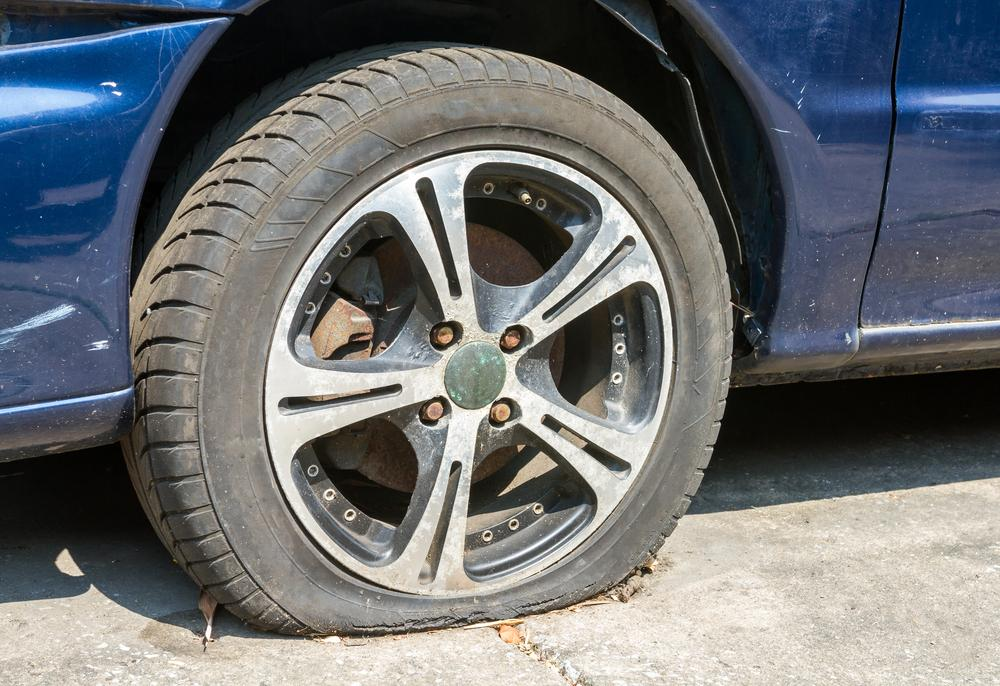tire flat: (117, 43, 736, 638)
